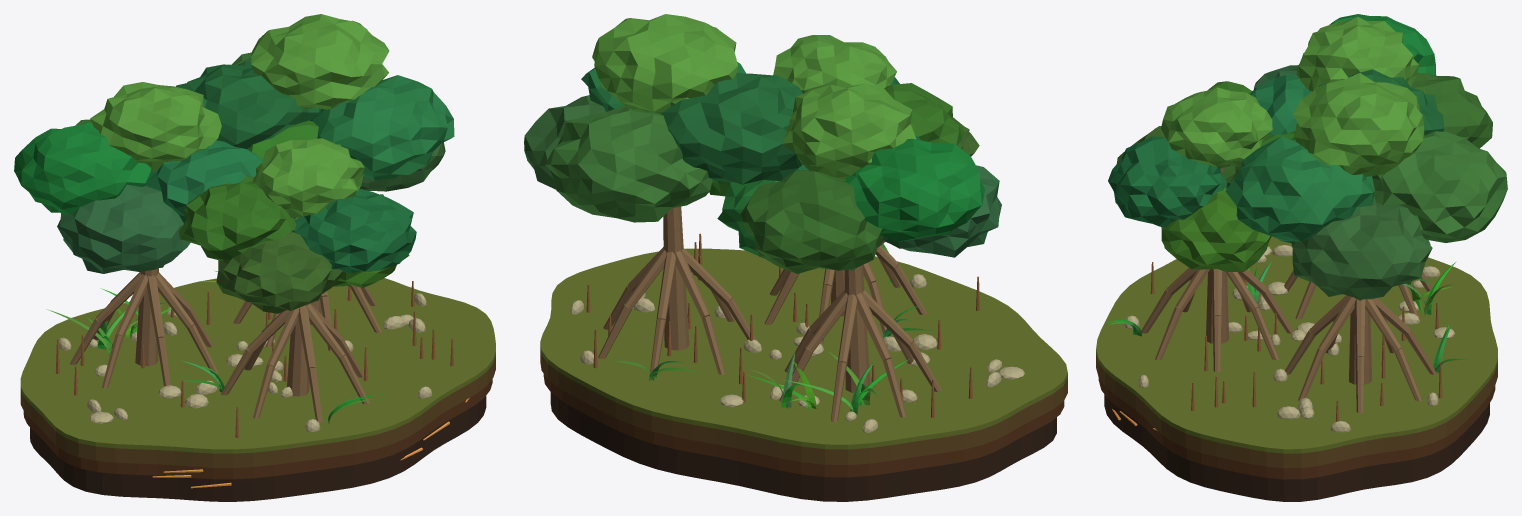
File: mangrove.glb
3 renders of one model, left to right at view 1: azimuth 30°, elevation 25°; view 2: azimuth 150°, elevation 25°; view 3: azimuth 270°, elevation 25°, orthographic. The views are drawn at different scales.
Visible parts, largest first — view 1: mangrove habitat; view 2: mangrove habitat; view 3: mangrove habitat.
Part boxes in pixels (left/top/right/bottom): mangrove habitat: left=14, top=14, right=495, bottom=501; mangrove habitat: left=524, top=14, right=1067, bottom=501; mangrove habitat: left=1096, top=14, right=1507, bottom=501.
Size of the model in its own units: 1.8 by 1.37 by 1.44.
1 material, 1 textured.
